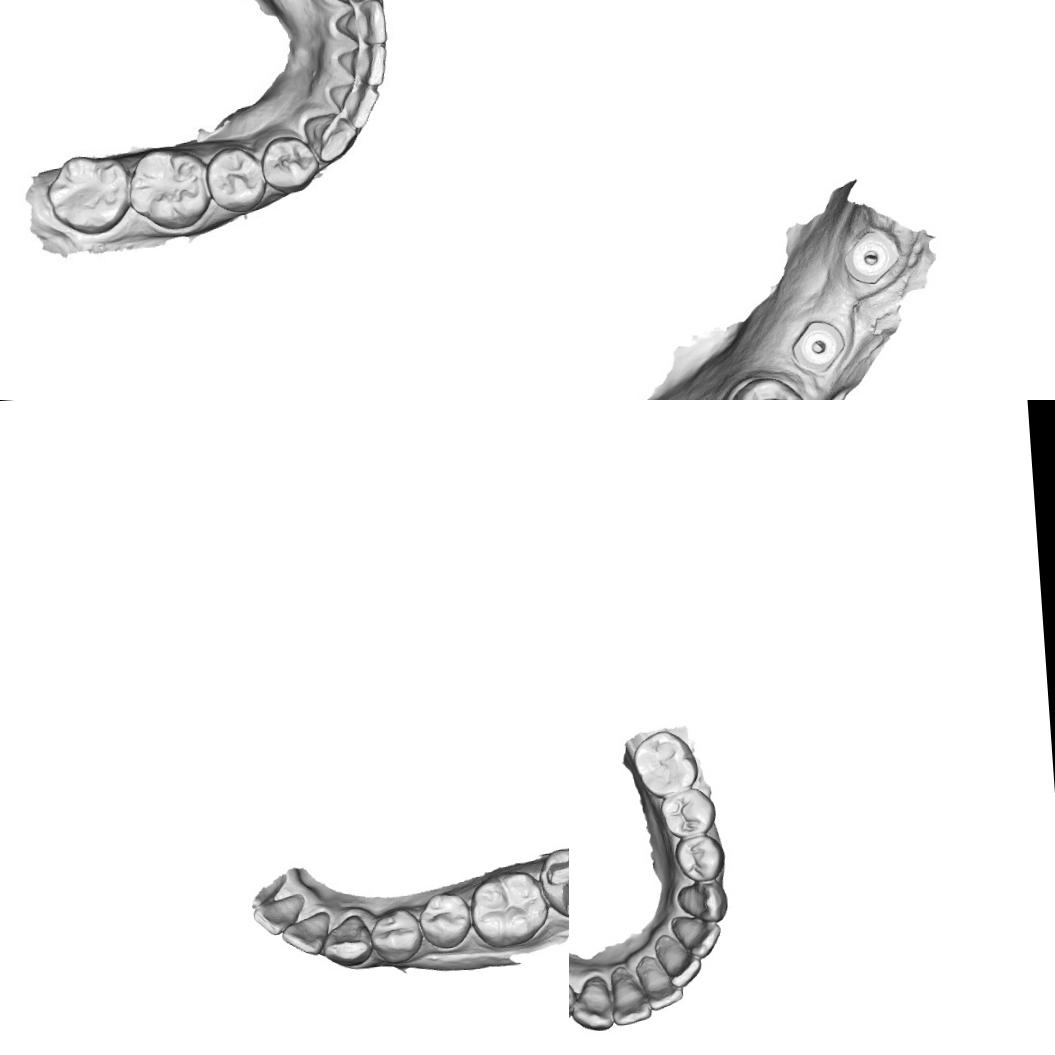canine: (569, 966, 619, 1035), (318, 911, 376, 970), (300, 112, 362, 166), (677, 871, 732, 920)
implant: (838, 223, 904, 288), (788, 312, 848, 376)
incisor: (634, 950, 689, 1010), (606, 962, 656, 1028), (326, 78, 384, 131), (331, 0, 390, 51), (334, 40, 391, 90), (278, 908, 334, 958), (250, 890, 308, 937), (655, 932, 705, 986), (674, 909, 722, 957)
inlay: (542, 847, 569, 918)
molar: (43, 150, 132, 240), (126, 145, 208, 232), (466, 868, 549, 950), (632, 726, 700, 802)
premolar: (204, 142, 268, 213), (258, 132, 321, 194), (416, 890, 474, 950), (368, 904, 424, 966), (660, 783, 716, 840), (672, 830, 725, 883), (722, 371, 811, 400)
